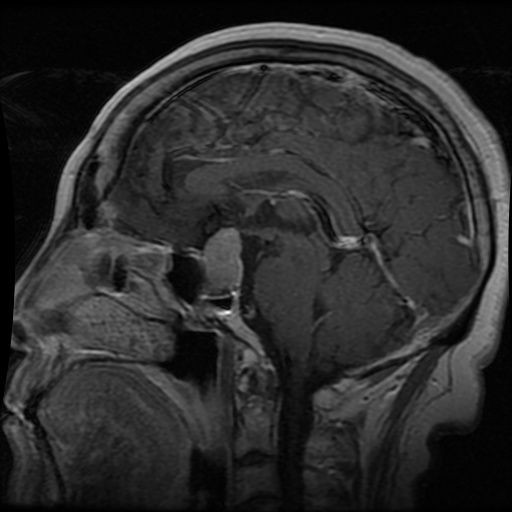pituitary: (203, 225, 243, 288)
